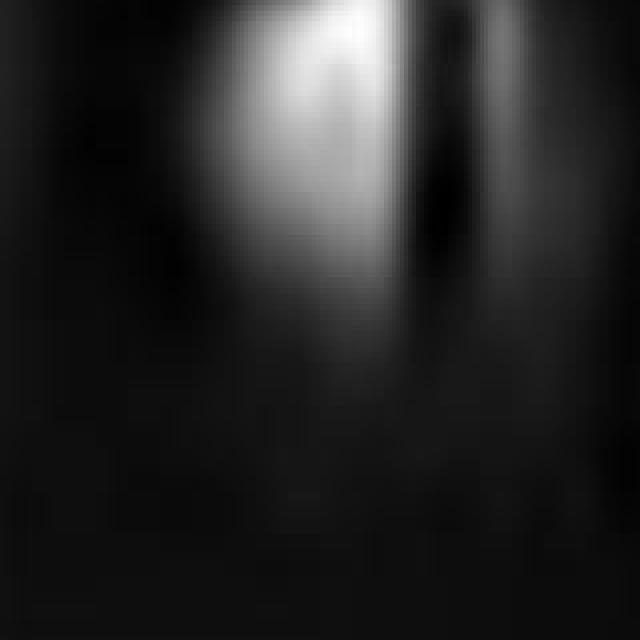person: (197, 1, 421, 369)
